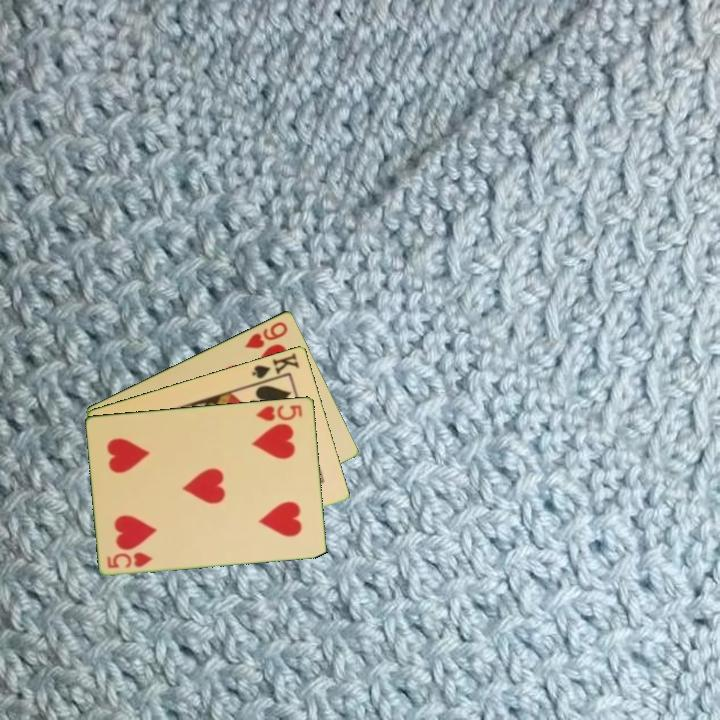5h: (253, 401, 305, 424), (104, 548, 156, 571)
9h: (242, 318, 291, 351)
Ks: (249, 349, 302, 381)
